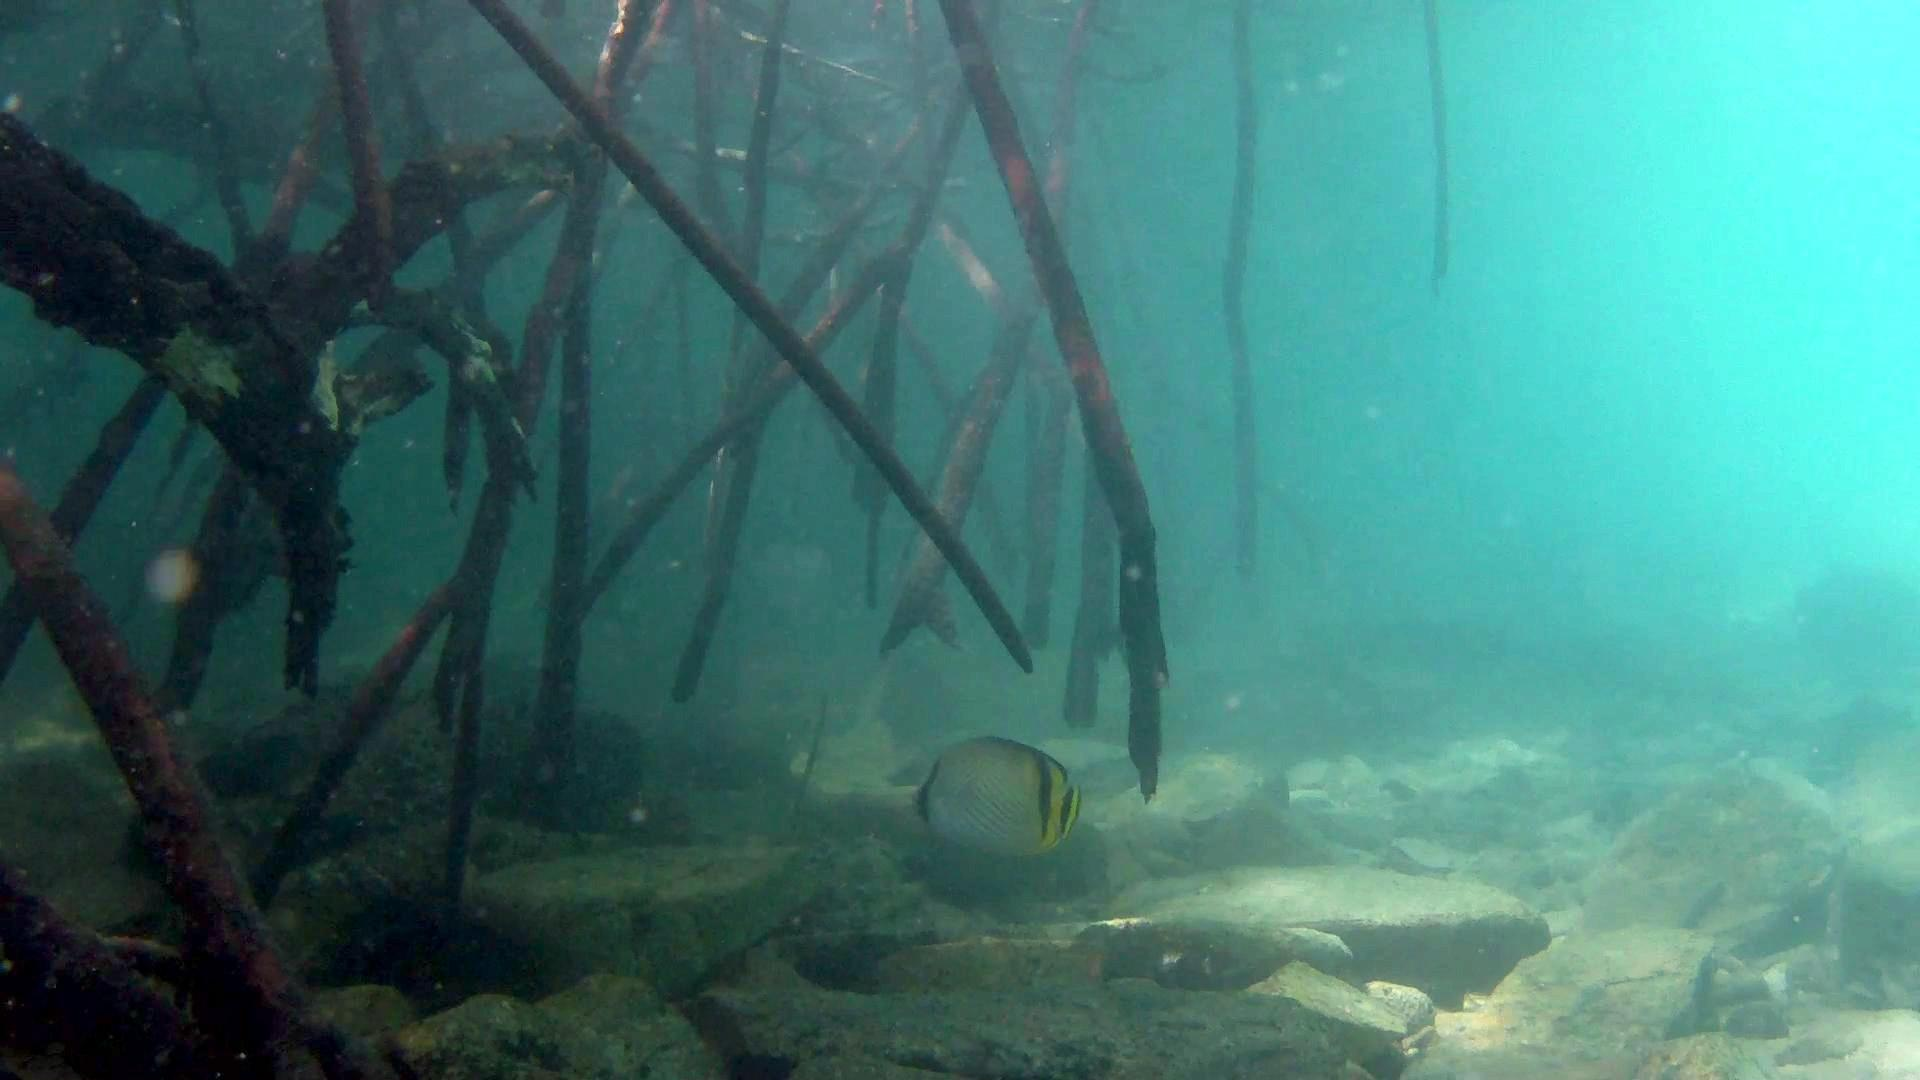chaetodon vagabundus: (898, 730, 1086, 859)
